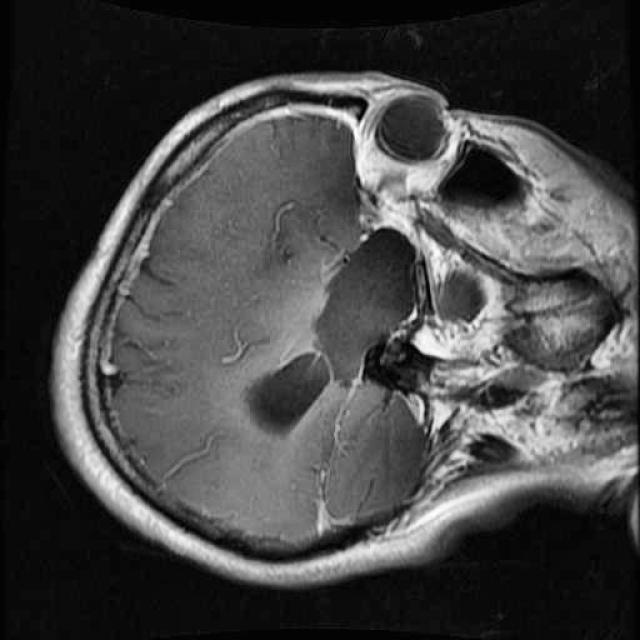Tumor: (228, 210, 448, 452)
